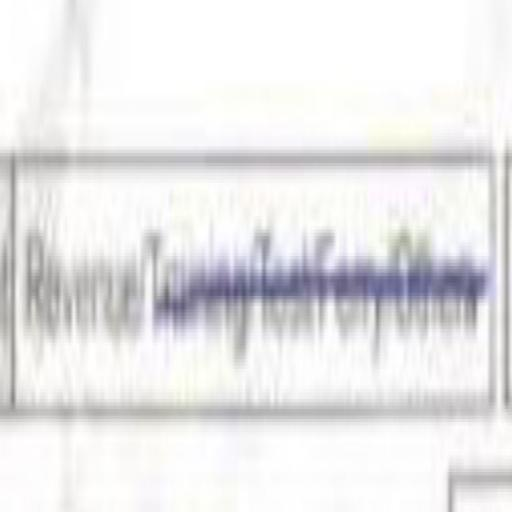check: (25, 126, 145, 430)
